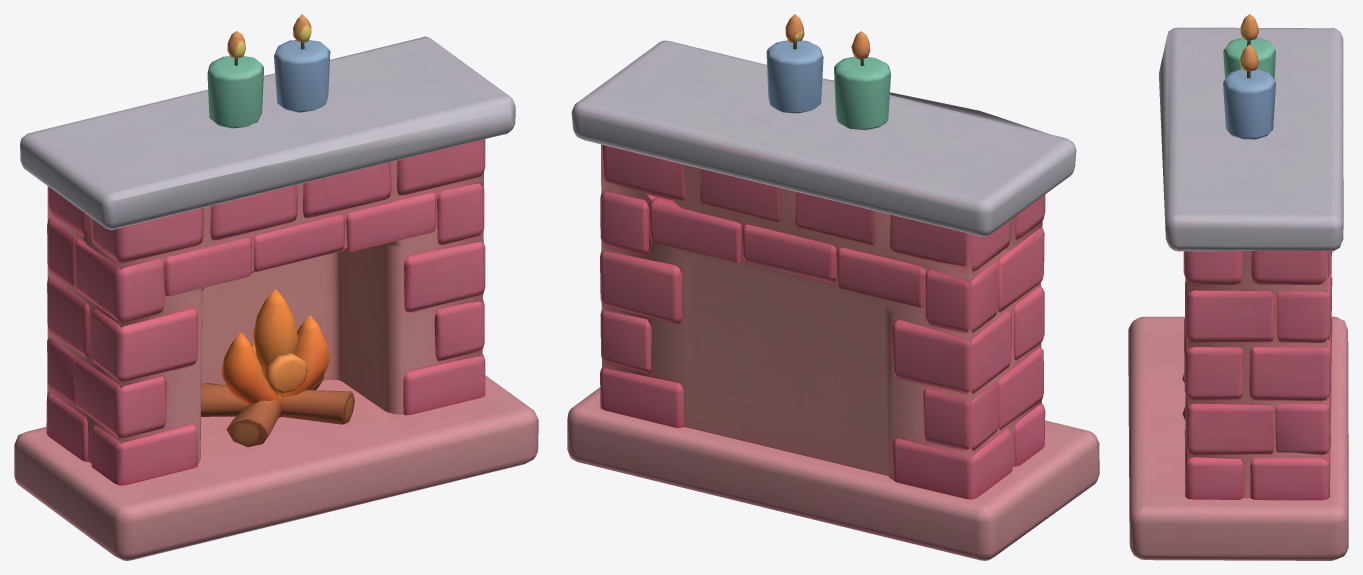
Rendered from fireplace.glb.
The picture shows the model from 3 angles, left to right: view 1: azimuth 30°, elevation 25°; view 2: azimuth 150°, elevation 25°; view 3: azimuth 270°, elevation 25°; orthographic projection. The views are drawn at different scales.
Visible parts, largest first — view 1: geometry_0; view 2: geometry_0; view 3: geometry_0.
Part boxes in pixels (bbox=[...]): geometry_0: bbox=[14, 14, 538, 560]; geometry_0: bbox=[567, 14, 1099, 560]; geometry_0: bbox=[1128, 14, 1348, 560].
Size of the model in its own units: 0.9831 by 0.9987 by 0.4583.
Materials: 1 (1 with a texture image).
